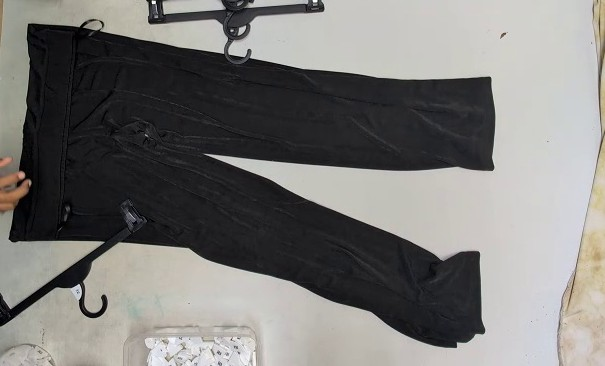TROUSER: (94, 10, 476, 351)
